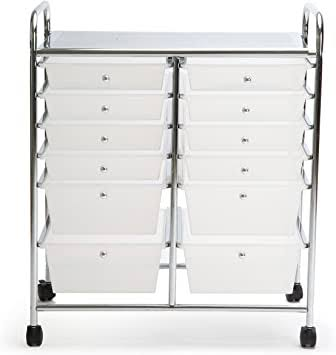Carts: (28, 2, 321, 355)
